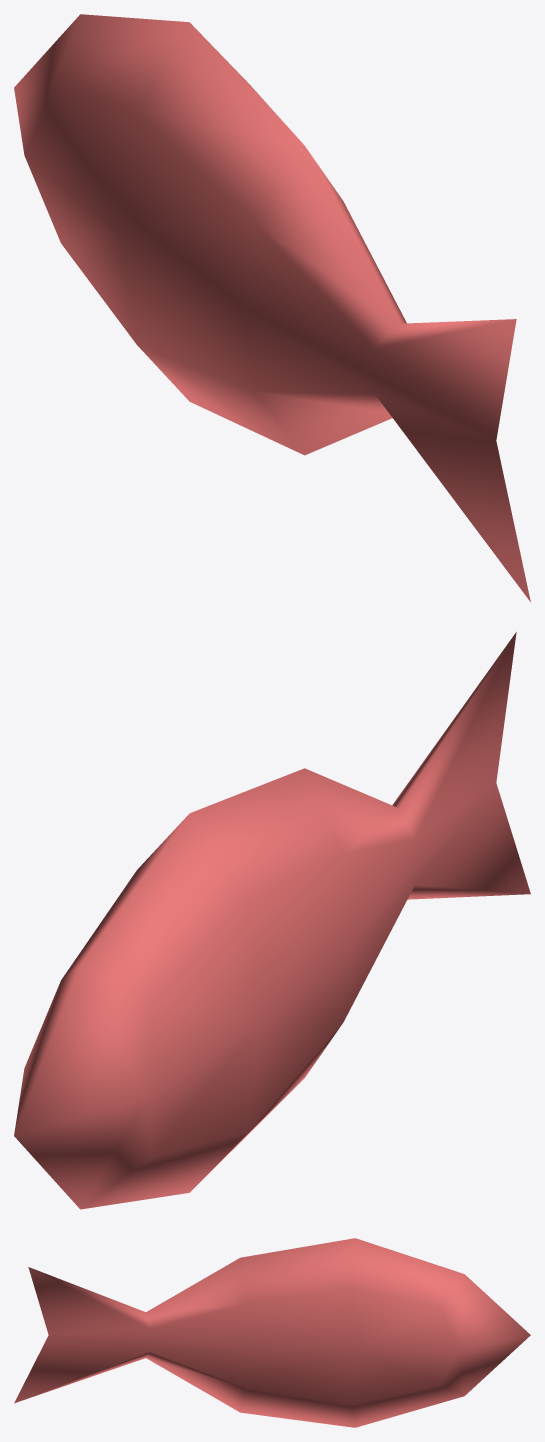
Rendered from cre_fish01.fbx.
3 views of the same model, one above another, from view 1: azimuth 30°, elevation 25°; view 2: azimuth 150°, elevation 25°; view 3: azimuth 270°, elevation 25° (orthographic). The views are drawn at different scales.
Visible parts, largest first — view 1: cre_fish01; view 2: cre_fish01; view 3: cre_fish01.
Part boxes in pixels (left/top/right/bottom): cre_fish01: left=14, top=14, right=530, bottom=602; cre_fish01: left=14, top=632, right=530, bottom=1209; cre_fish01: left=14, top=1238, right=530, bottom=1427.
Bounding box in the file's own units: 3.01 × 7.46 × 18.42.
